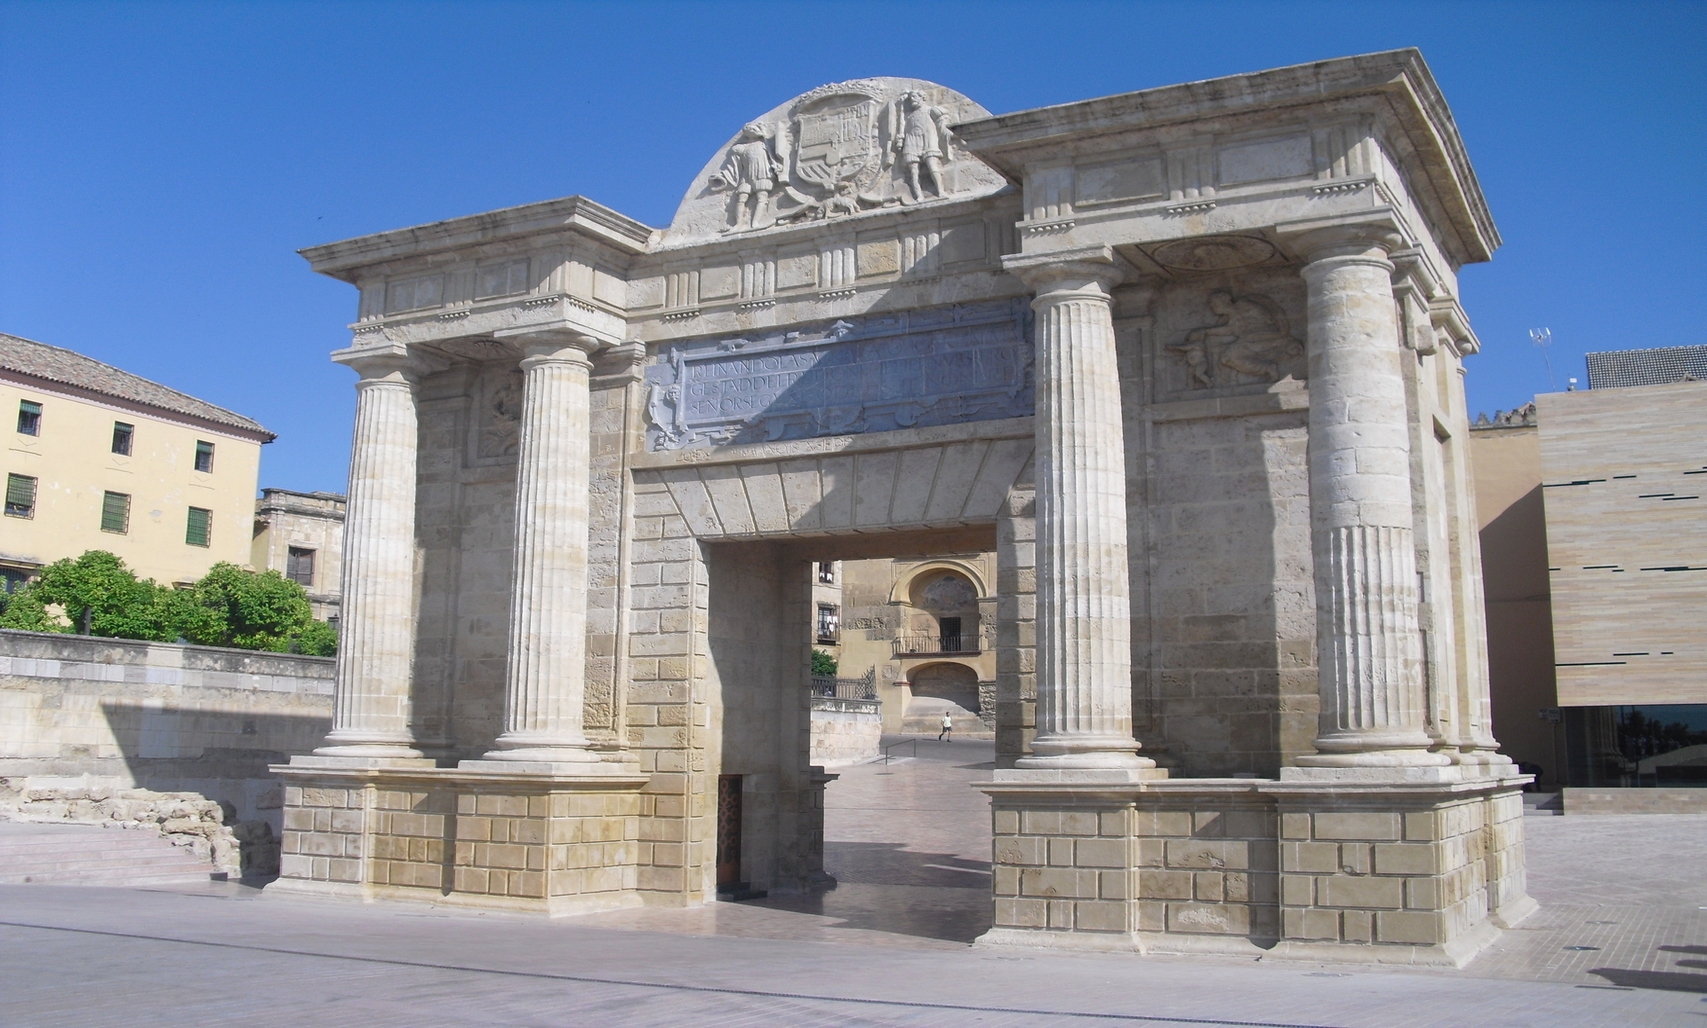vano-adintelado: (645, 496, 1053, 941)
